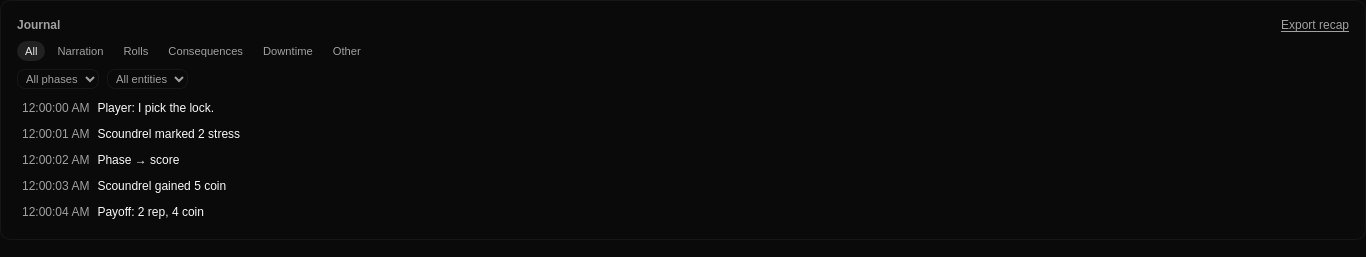
Test: JournalPanel › filters by type category
Click the button "Narration" at point(80, 51), box [49,41,111,61]
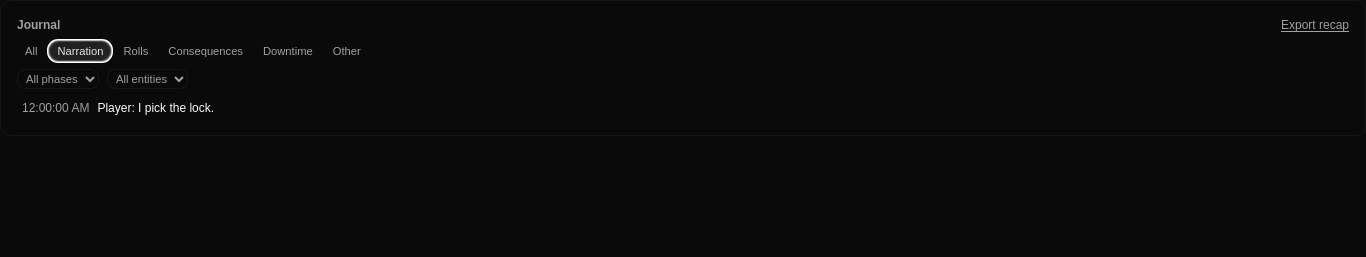
Expected: the text "Player: I pick the lock." is shown, [97,100,214,116]
Expected: the heading "Scoundrel marked 2 stress" is gone
